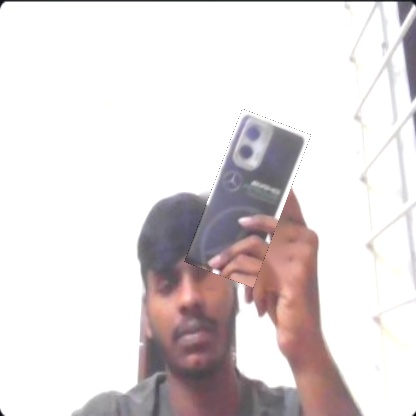cell_phone: (184, 109, 311, 288)
